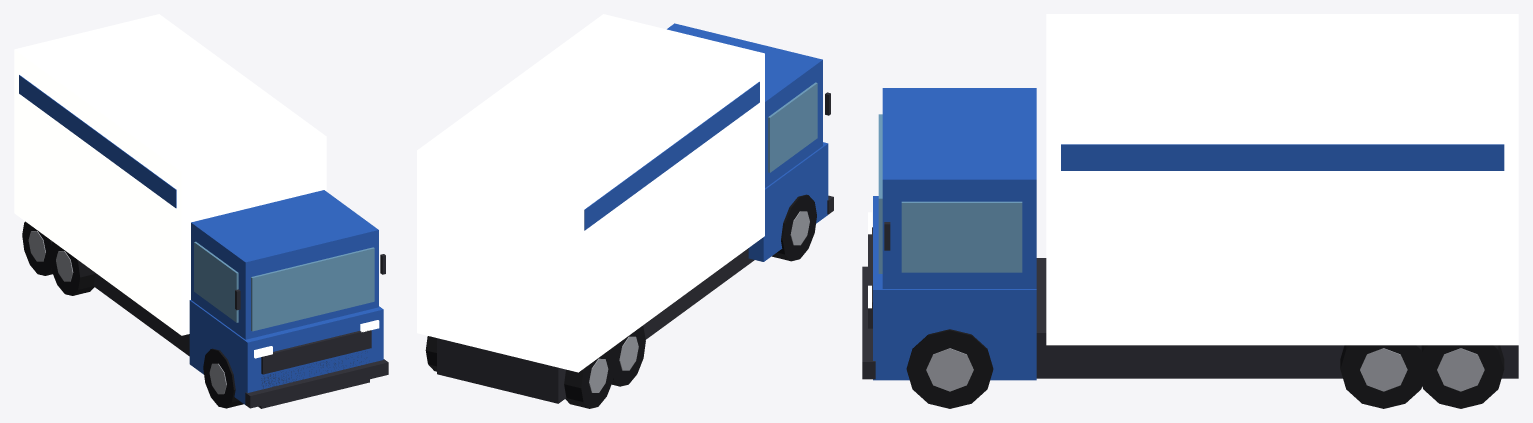
The model's file is box_truck.glb.
The picture shows the model from 3 angles, left to right: view 1: azimuth 30°, elevation 25°; view 2: azimuth 150°, elevation 25°; view 3: azimuth 270°, elevation 25°; orthographic projection. The views are drawn at different scales.
Parts seen in each view (by area): view 1: box_truck; view 2: box_truck; view 3: box_truck.
Part boxes in pixels (left/top/right/bottom): box_truck: left=14, top=14, right=388, bottom=408; box_truck: left=417, top=14, right=833, bottom=408; box_truck: left=862, top=14, right=1518, bottom=408.
Size of the model in its own units: 2.52 by 3.4 by 6.81.
